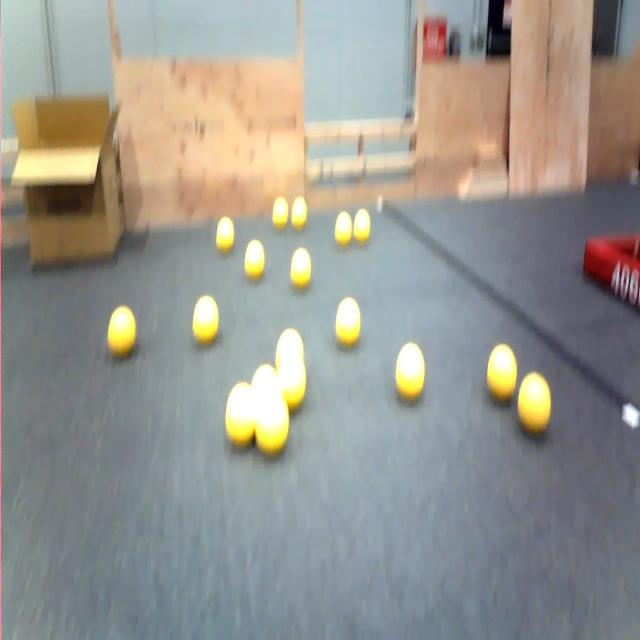fuel: (255, 390, 289, 456), (518, 373, 551, 435), (225, 383, 255, 447), (487, 344, 517, 401), (396, 343, 424, 400), (277, 356, 306, 411), (107, 306, 136, 358), (336, 297, 360, 346), (193, 296, 218, 343), (275, 328, 303, 369), (251, 364, 278, 394), (291, 248, 311, 288), (245, 240, 264, 279), (216, 216, 234, 253), (353, 209, 371, 243), (335, 211, 352, 246), (291, 197, 307, 230), (272, 197, 288, 229)
